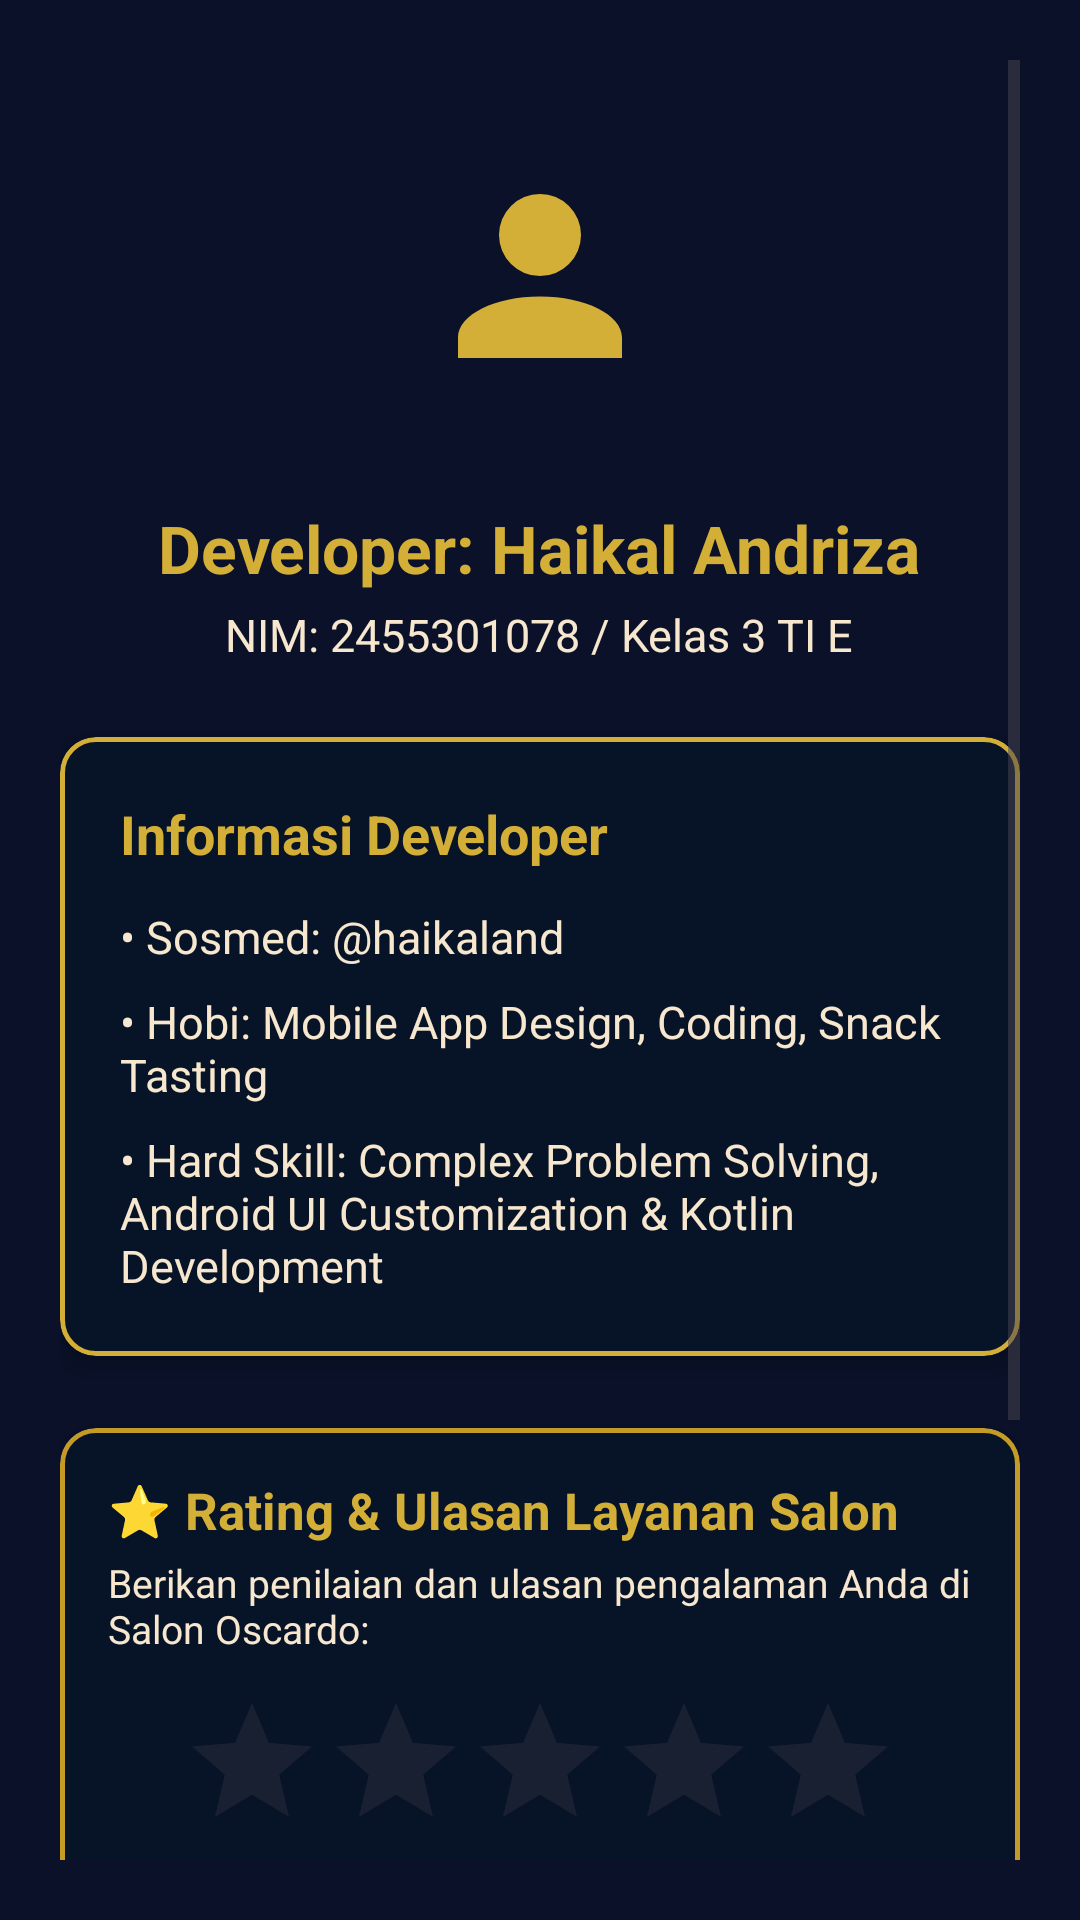

Named icons in this screenshot (1080px x 1920px) and their bounding boxes, (x1, y1, x2, y2):
profile: (458, 194, 622, 358)
